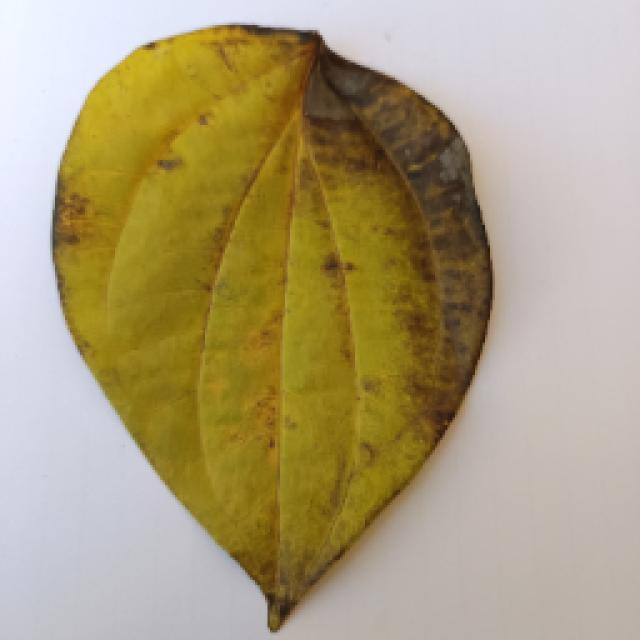slow-decline: (25, 43, 523, 635)
